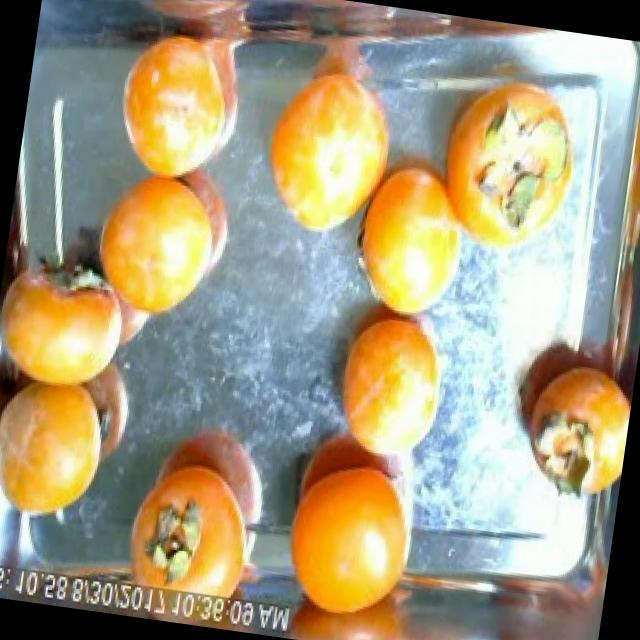Fruit: (238, 34, 420, 264), (71, 136, 258, 348), (97, 7, 272, 204), (0, 349, 135, 545)
